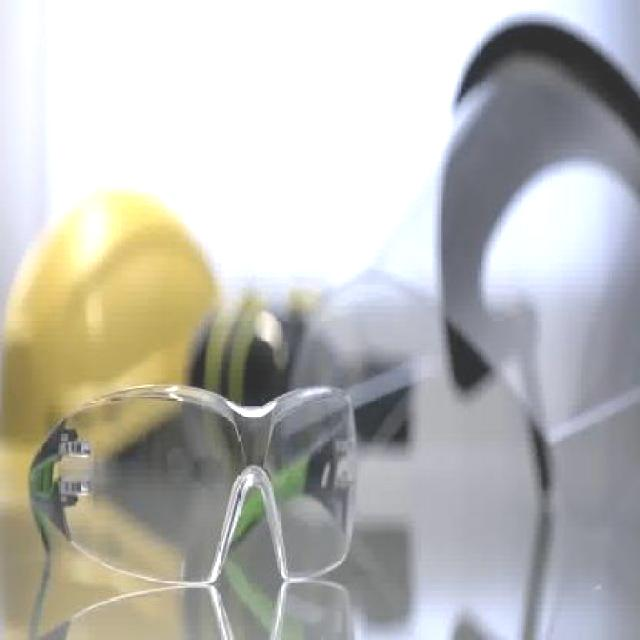Helmet: (0, 187, 218, 503)
